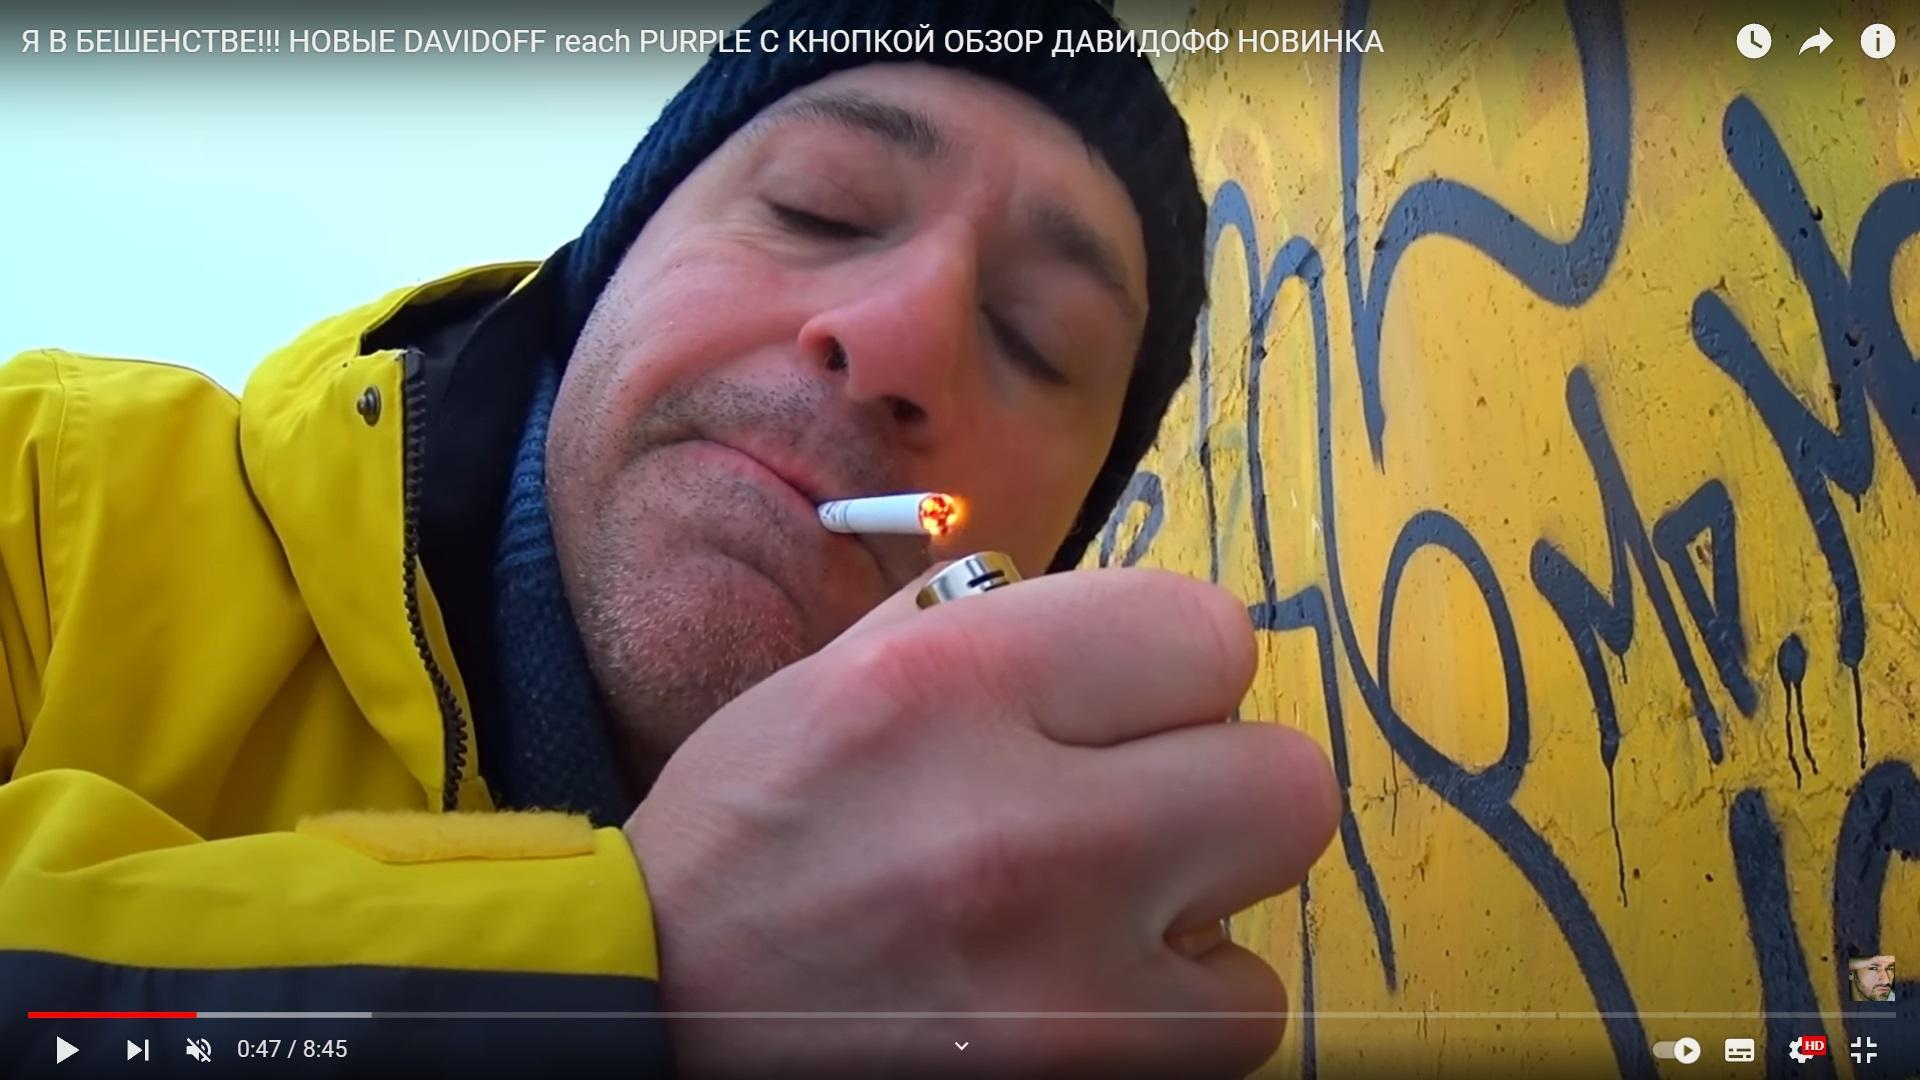cigarette: (815, 491, 961, 538)
